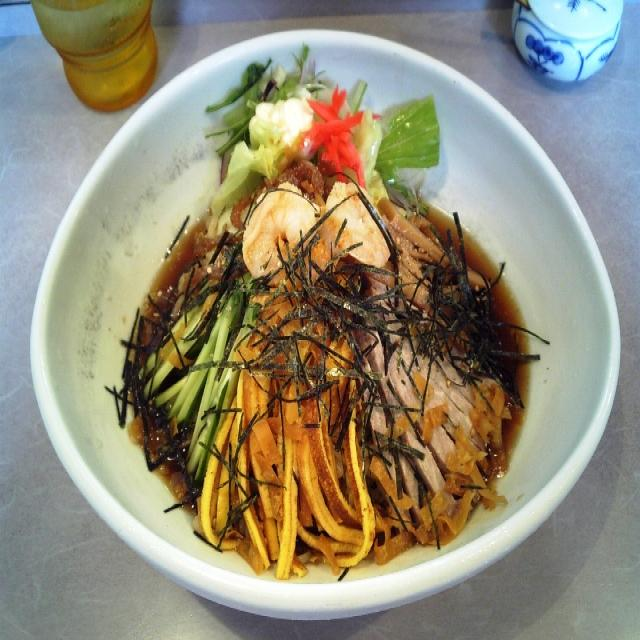面条主食: (16, 20, 424, 640)
